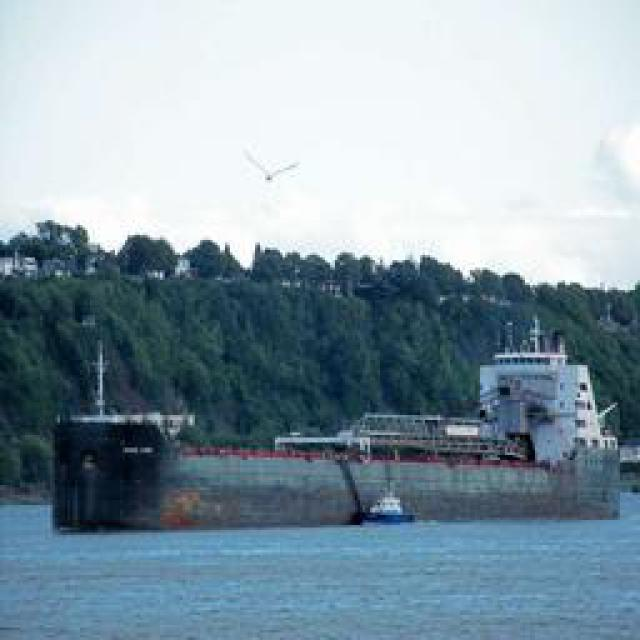Ship: (283, 323, 628, 518)
